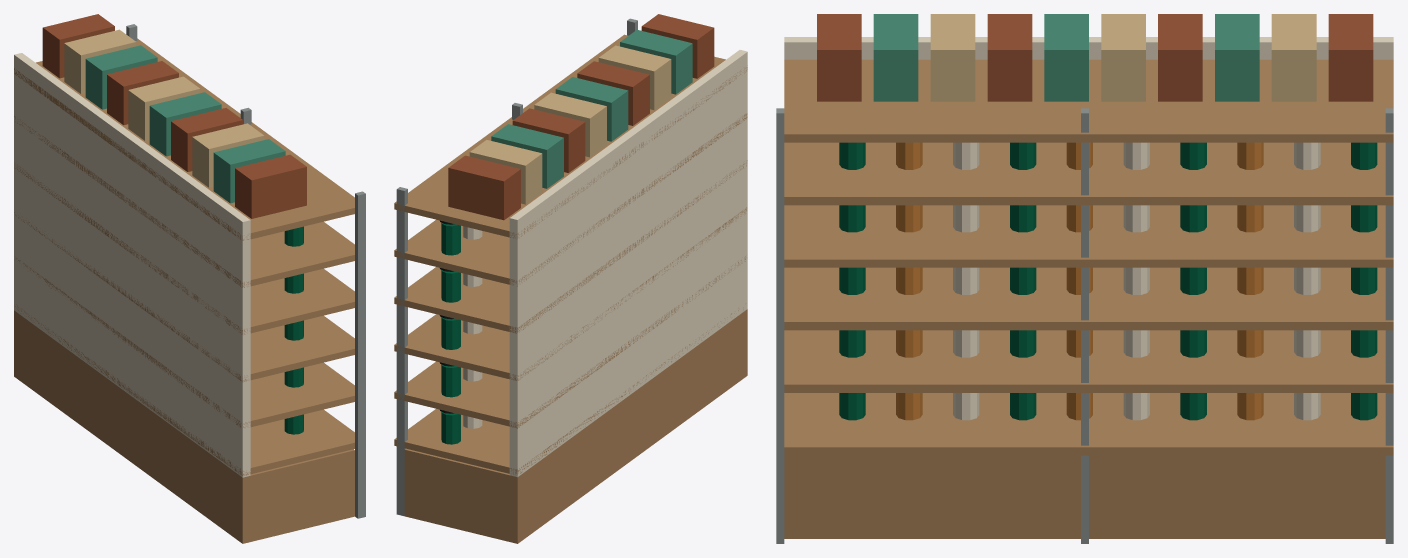
Rendered from good.glb.
The picture shows the model from 3 angles, left to right: view 1: azimuth 30°, elevation 25°; view 2: azimuth 150°, elevation 25°; view 3: azimuth 270°, elevation 25°; orthographic projection. The views are drawn at different scales.
Visible parts, largest first — view 1: starbucksShelves_1, starbucksShelves_0, starbucksShelves_107, starbucksShelves_86, starbucksShelves_65, starbucksShelves_23, starbucksShelves_2, starbucksShelves_44, starbucksShelves_117, starbucksShelves_120, starbucksShelves_108, starbucksShelves_115 (+7 smaller); view 2: starbucksShelves_1, starbucksShelves_0, starbucksShelves_107, starbucksShelves_65, starbucksShelves_86, starbucksShelves_23, starbucksShelves_44, starbucksShelves_2, starbucksShelves_108, starbucksShelves_118, starbucksShelves_117, starbucksShelves_111 (+12 smaller); view 3: starbucksShelves_0, starbucksShelves_107, starbucksShelves_86, starbucksShelves_44, starbucksShelves_2, starbucksShelves_65, starbucksShelves_23, starbucksShelves_108, starbucksShelves_109, starbucksShelves_114, starbucksShelves_115, starbucksShelves_116 (+31 smaller).
Part boxes in pixels (x1,y1,x2,y2): starbucksShelves_1: [14, 53, 250, 477]; starbucksShelves_0: [14, 310, 354, 543]; starbucksShelves_107: [14, 38, 354, 240]; starbucksShelves_86: [14, 116, 354, 287]; starbucksShelves_65: [14, 164, 354, 334]; starbucksShelves_23: [15, 258, 354, 427]; starbucksShelves_2: [15, 304, 354, 475]; starbucksShelves_44: [14, 212, 354, 381]; starbucksShelves_117: [235, 154, 306, 218]; starbucksShelves_120: [355, 191, 365, 518]; starbucksShelves_108: [42, 14, 114, 78]; starbucksShelves_115: [192, 123, 264, 187]; starbucksShelves_1: [509, 50, 747, 477]; starbucksShelves_0: [404, 309, 747, 543]; starbucksShelves_107: [394, 34, 747, 238]; starbucksShelves_65: [394, 160, 747, 333]; starbucksShelves_86: [394, 113, 747, 286]; starbucksShelves_23: [394, 256, 745, 428]; starbucksShelves_44: [394, 207, 746, 380]; starbucksShelves_2: [394, 307, 743, 474]; starbucksShelves_108: [448, 155, 520, 220]; starbucksShelves_118: [396, 187, 407, 516]; starbucksShelves_117: [641, 14, 714, 78]; starbucksShelves_111: [512, 108, 585, 172]; starbucksShelves_0: [784, 455, 1385, 538]; starbucksShelves_107: [784, 59, 1393, 142]; starbucksShelves_86: [784, 142, 1393, 205]; starbucksShelves_44: [784, 267, 1393, 330]; starbucksShelves_2: [784, 393, 1393, 455]; starbucksShelves_65: [784, 205, 1393, 267]; starbucksShelves_23: [784, 330, 1393, 392]; starbucksShelves_108: [1328, 14, 1373, 101]; starbucksShelves_109: [1271, 14, 1316, 101]; starbucksShelves_114: [987, 14, 1032, 101]; starbucksShelves_115: [930, 14, 975, 101]; starbucksShelves_116: [873, 14, 918, 101].
Size of the model in its own units: 0.93 by 2.53 by 3.04.
